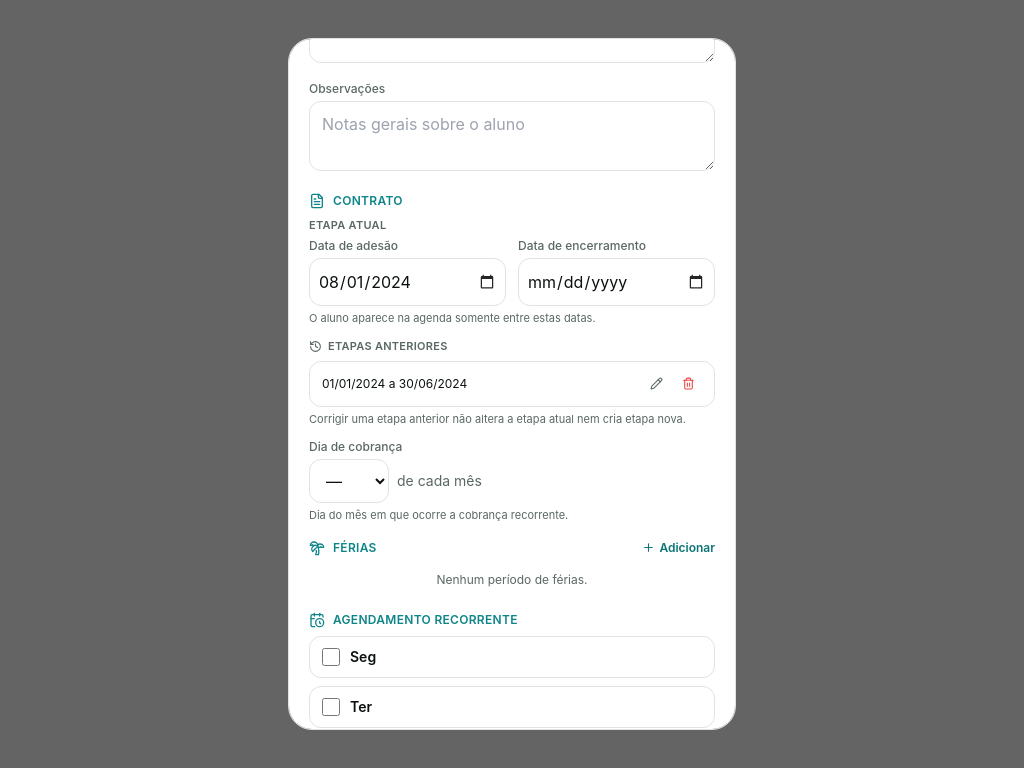
Test case: AlunoFormModal — integração entre a UI e o callback onSave › exclusão de etapa anterior com aula registrada no período é bloqueada na UI
(page scrolled)
Click the button named "Excluir etapa": (688, 384) left=674, top=370, right=702, bottom=398
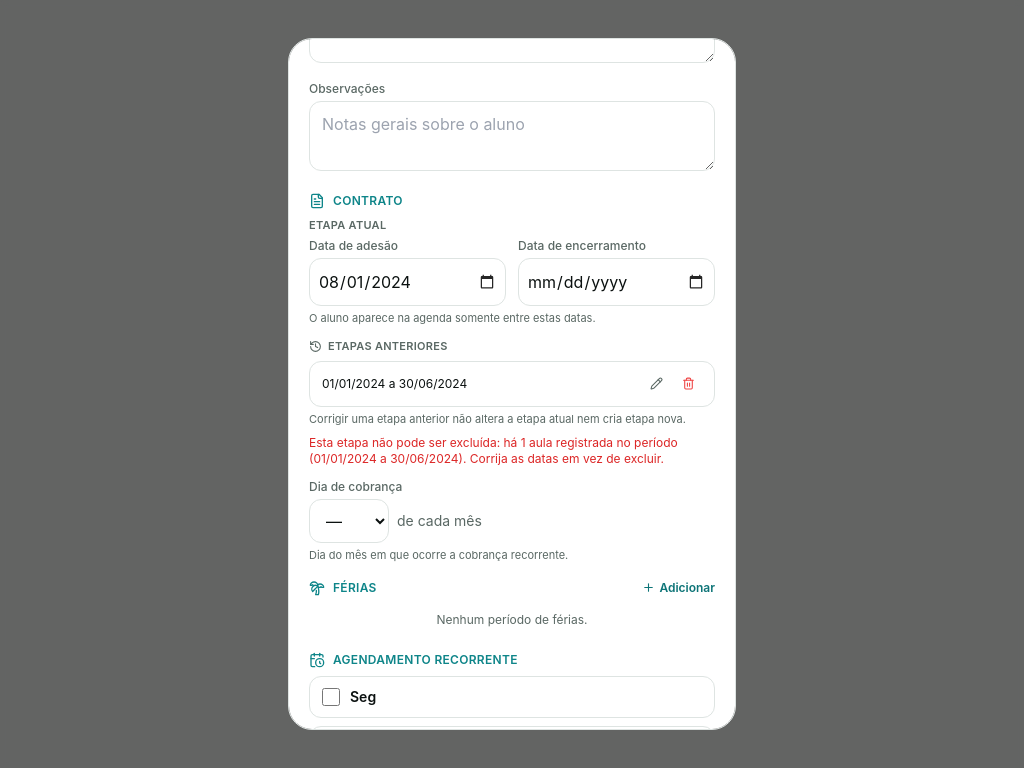
Check: the text "não pode ser excluída" is shown, box left=309, top=435, right=678, bottom=466
